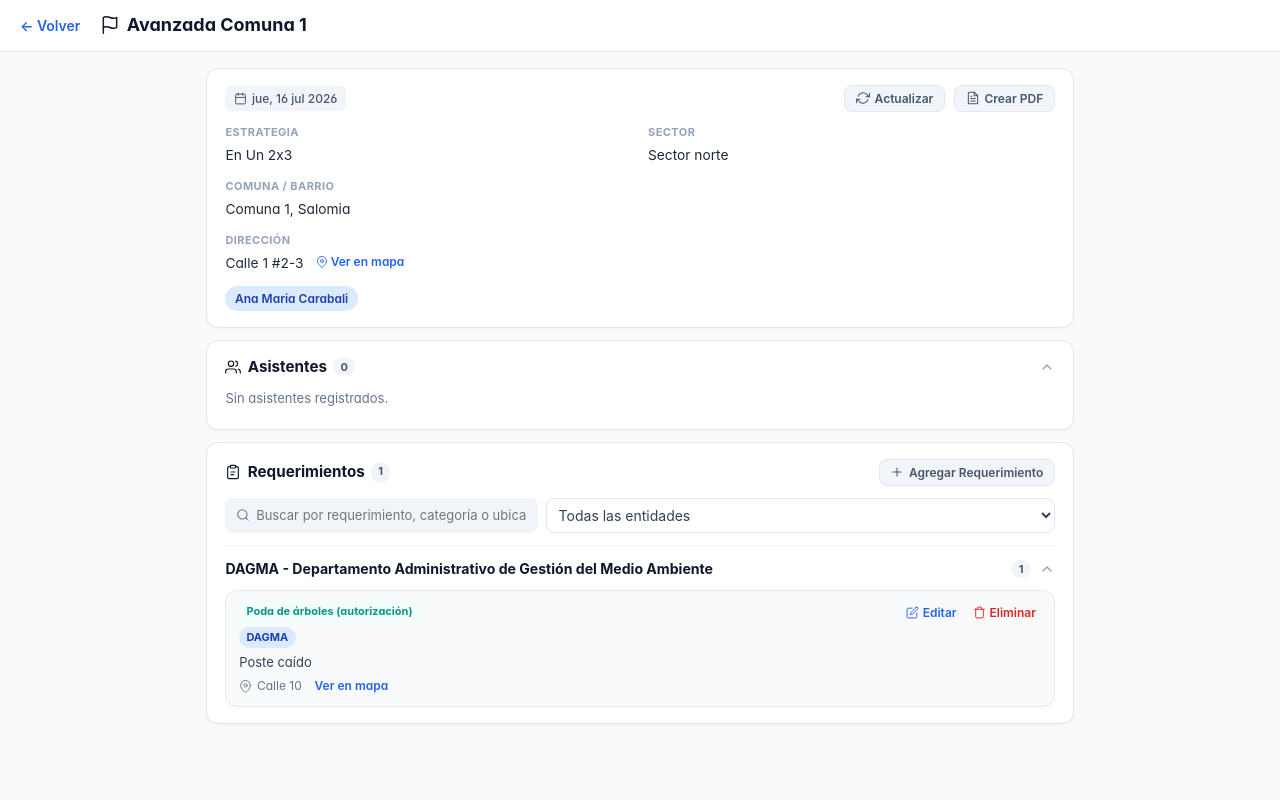
Test: DetalleAvanzada — edit requerimiento (REAL store integration) › edited text shows in the .req-card immediately after 'Guardar cambios' (no manual refresh)
expect the text "Poste caído" is shown: met, box [239,654,312,670]
# Drive the UI exactly like a user.
Click the button with aria-label "editar requerimiento".
click(931, 612)  # box [901,602,961,622]
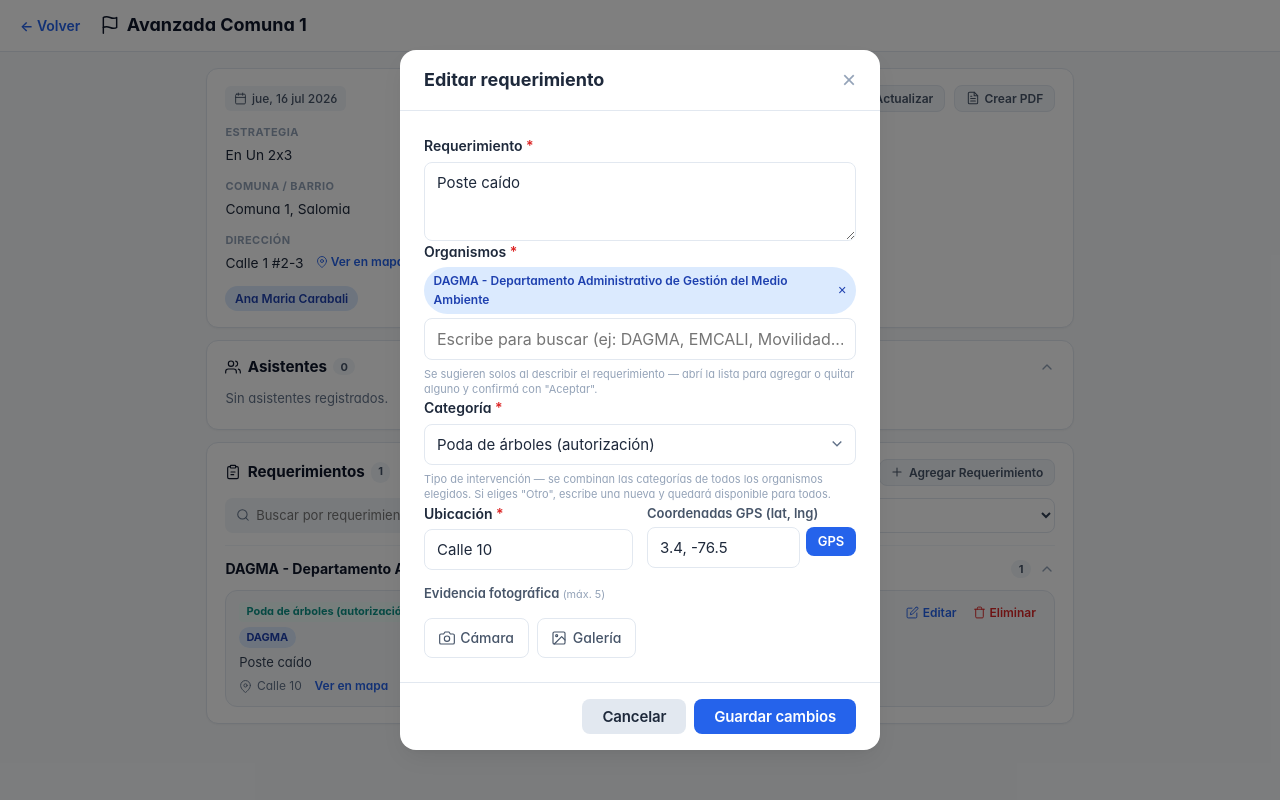
expect the heading "Editar requerimiento" is shown: met, box [424,66,604,94]
Replace the text in the text box labelled "Requerimiento *" with "Poste reparado" at (640, 201), box [424,162,856,241]
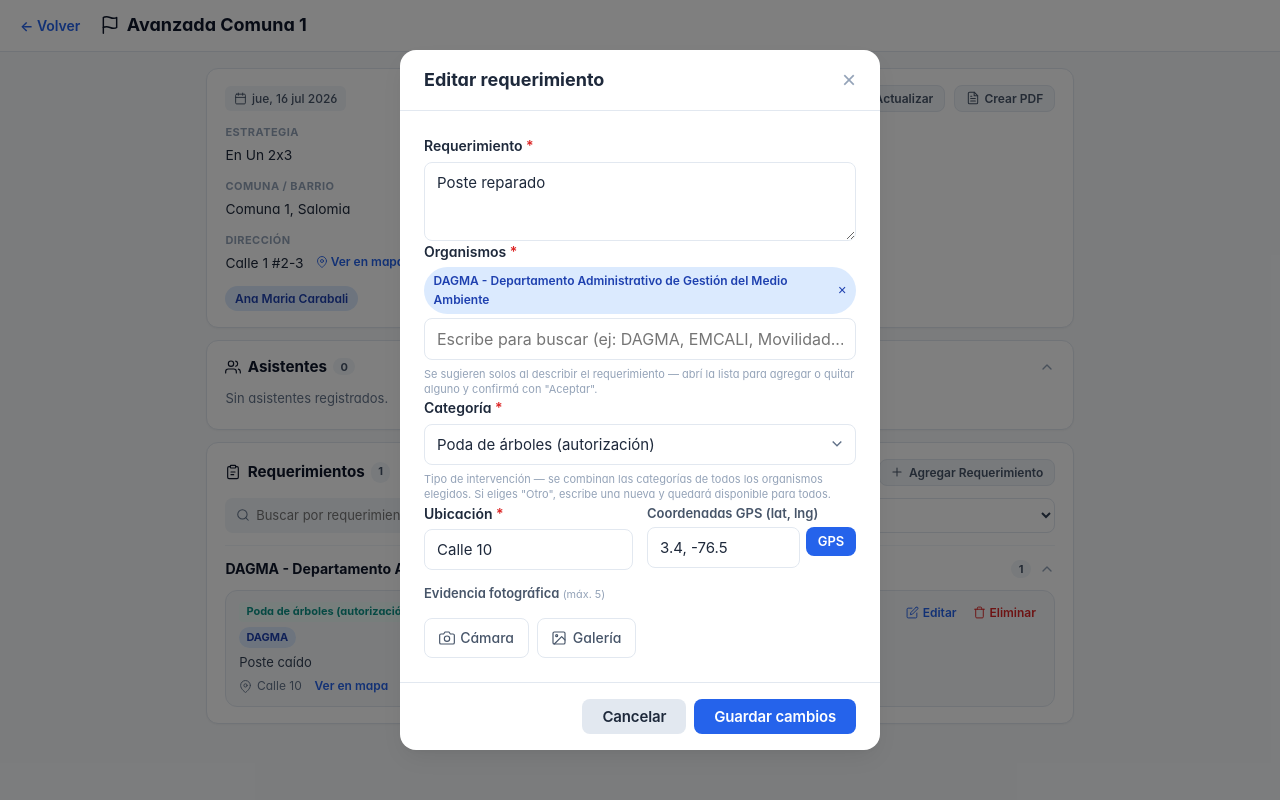
Click the button "Guardar cambios".
click(775, 717)  # box [694,699,856,734]
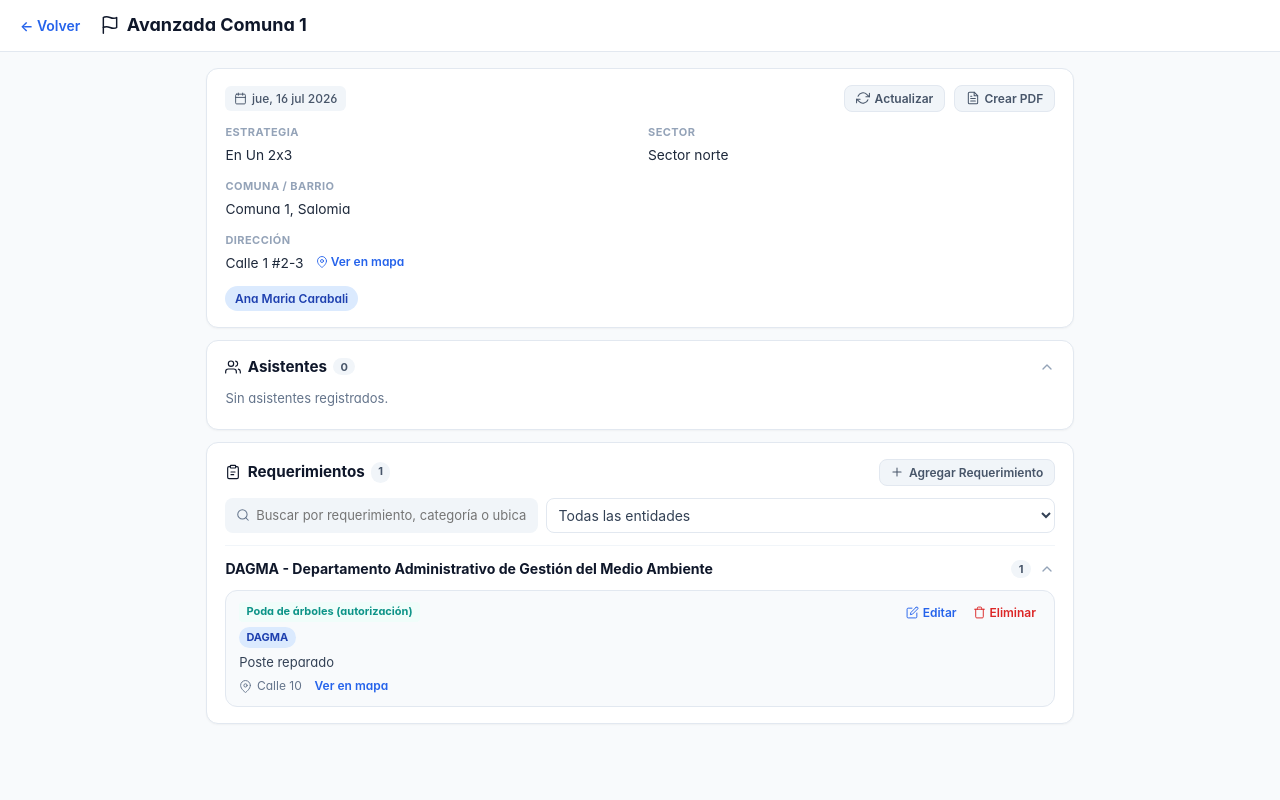
expect the text "Poste caído" is shown: met, box [225,590,1055,707]
expect the text "Poste caído" is gone: met
expect the heading "Editar requerimiento" is gone: met
